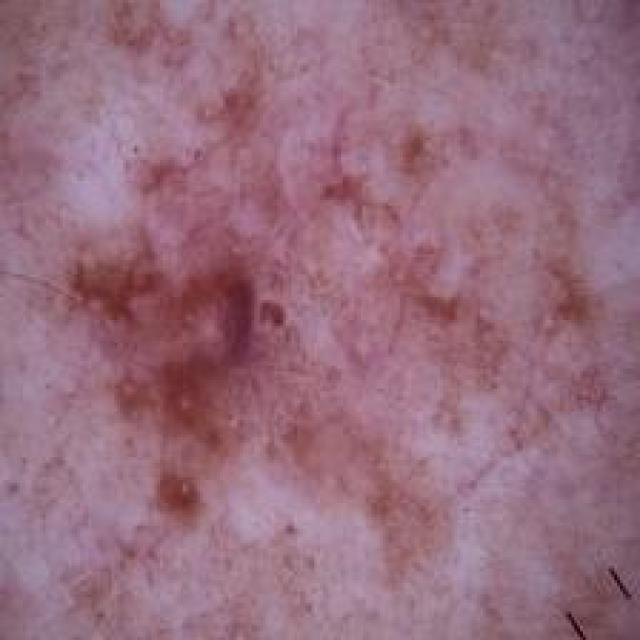Cancer: (48, 79, 601, 568)
